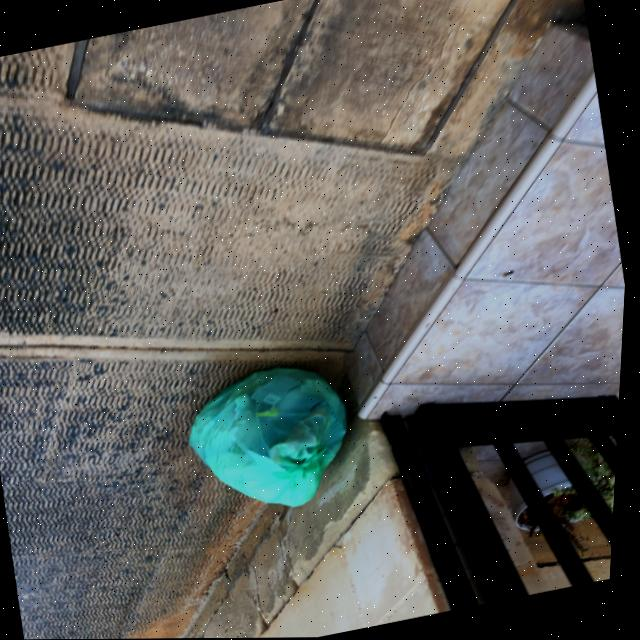Recycled Waste -Grey or Green Bag-: (178, 356, 369, 528)
